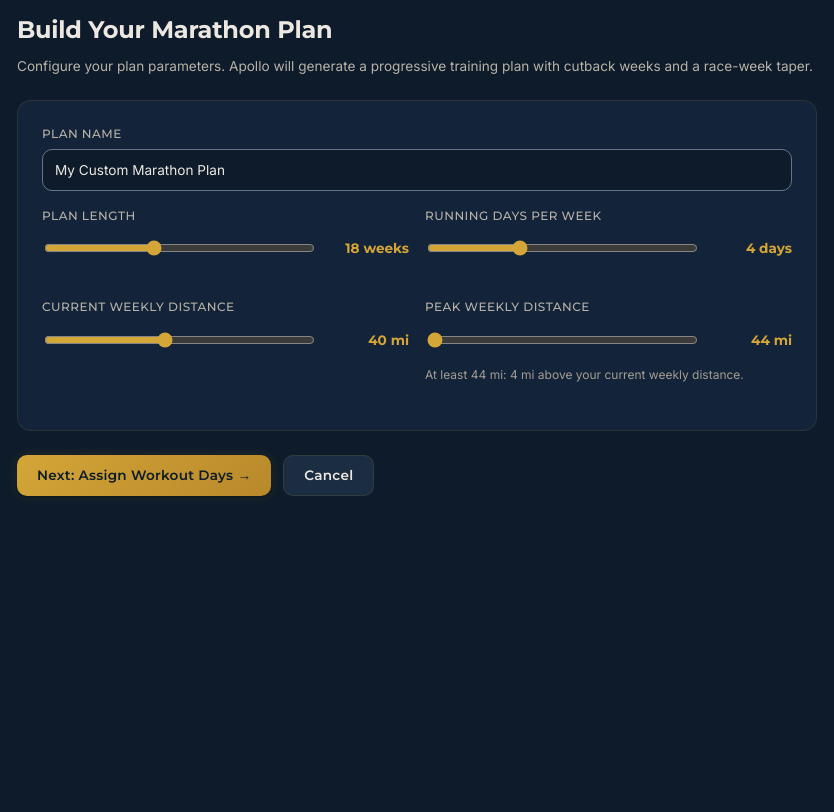
Test: PlanBuilder › V21: an initialConfig peak below current+4 is clamped in state, not only on screen
Expected: the slider labelled "Peak Weekly Distance" holds "44", [427,324,698,356]
Click the button "Next: Assign Workout Days →". click: (144, 476)
box: [17,455,271,496]
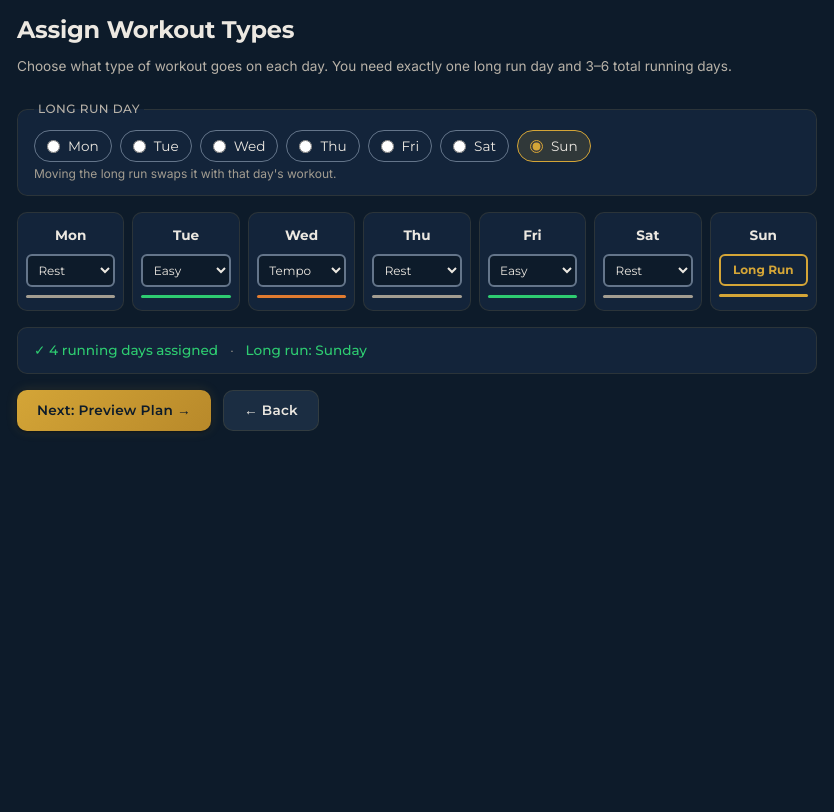
Click the button "Next: Preview Plan →". click: (114, 411)
box: [17,390,211,431]
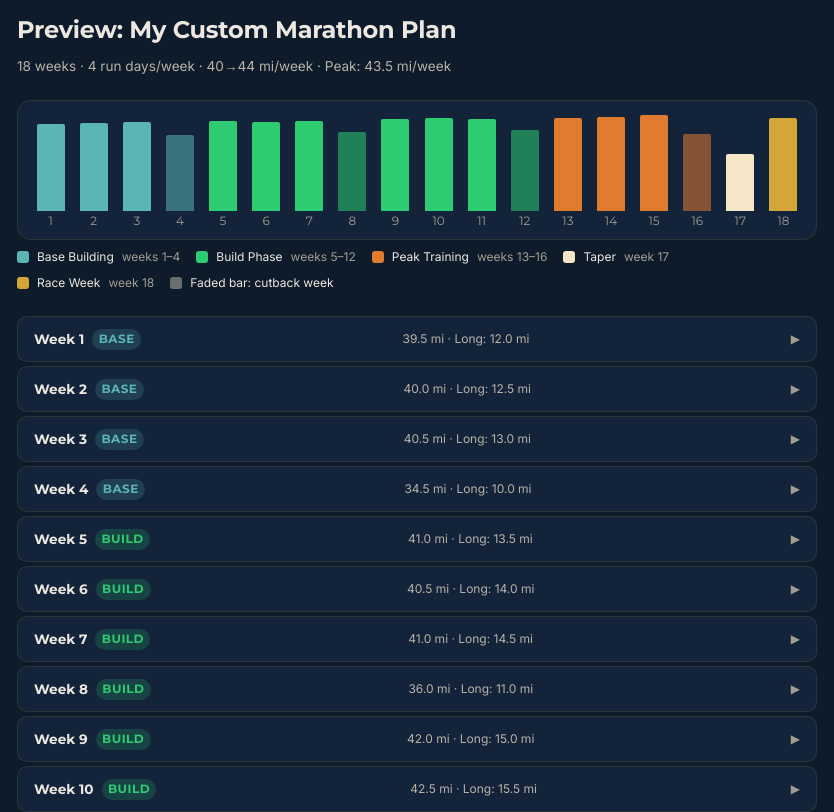
Now the text "40→44 mi/week" is shown, box [17,58,451,74]
